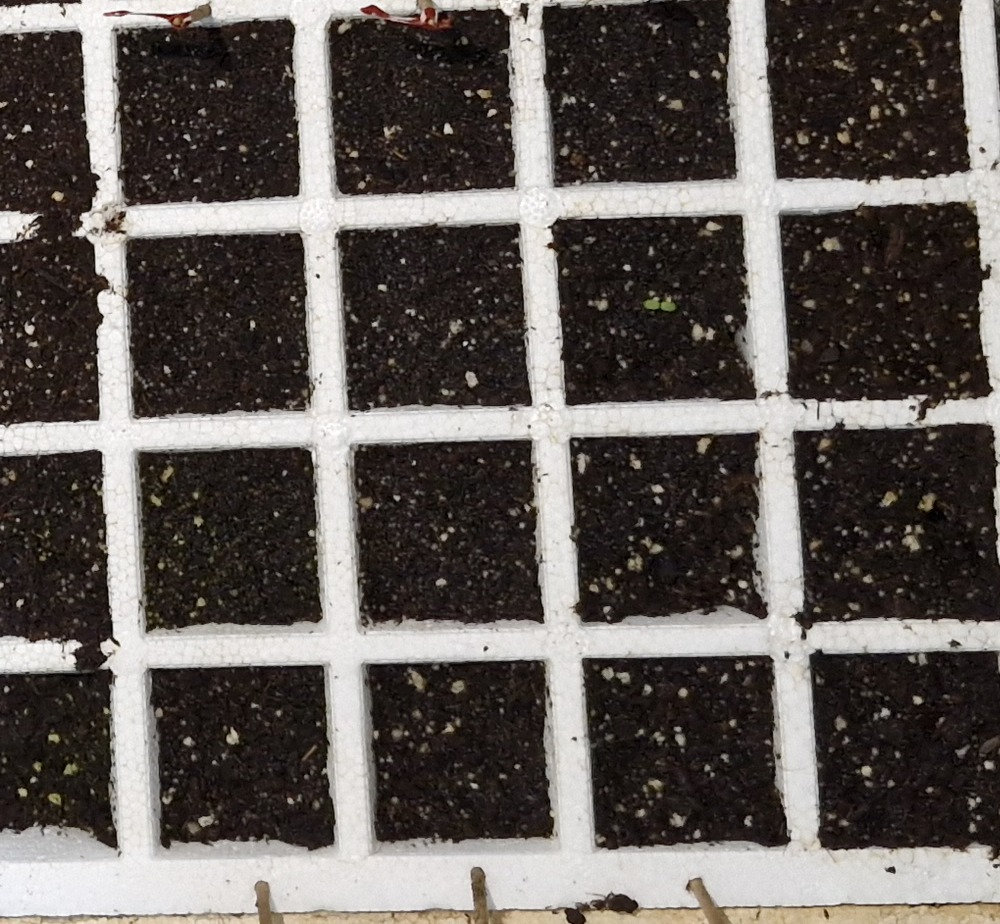Folha: (644, 300, 660, 309), (662, 302, 675, 311)
Germinacao: (643, 301, 675, 311)
